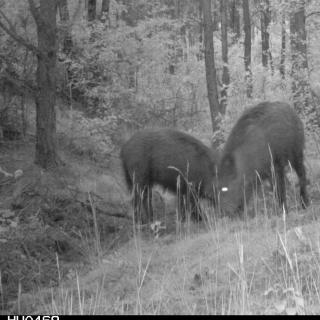Pig: (211, 76, 311, 261), (108, 84, 217, 240)
